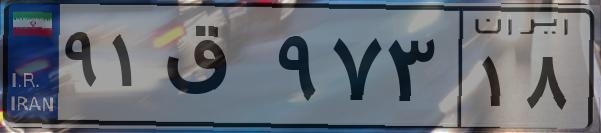1: (475, 38, 525, 113), (110, 28, 158, 98)
3: (385, 28, 445, 110)
7: (330, 28, 385, 110)
8: (525, 38, 570, 115)
9: (270, 28, 330, 110), (57, 26, 110, 100)
ق: (158, 20, 270, 120)
